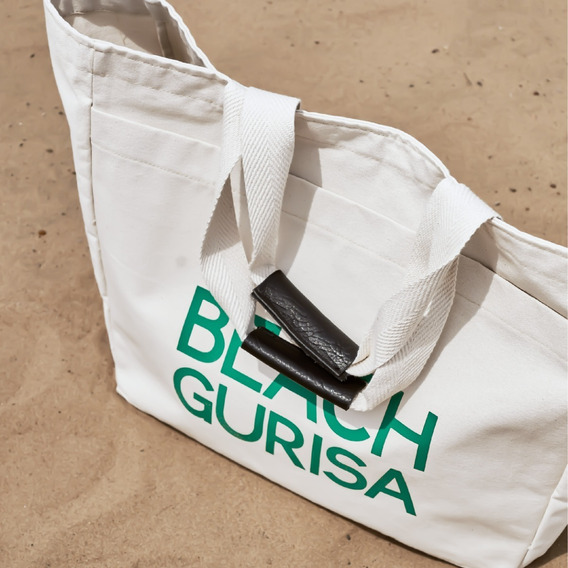cartera: (40, 1, 568, 568)
